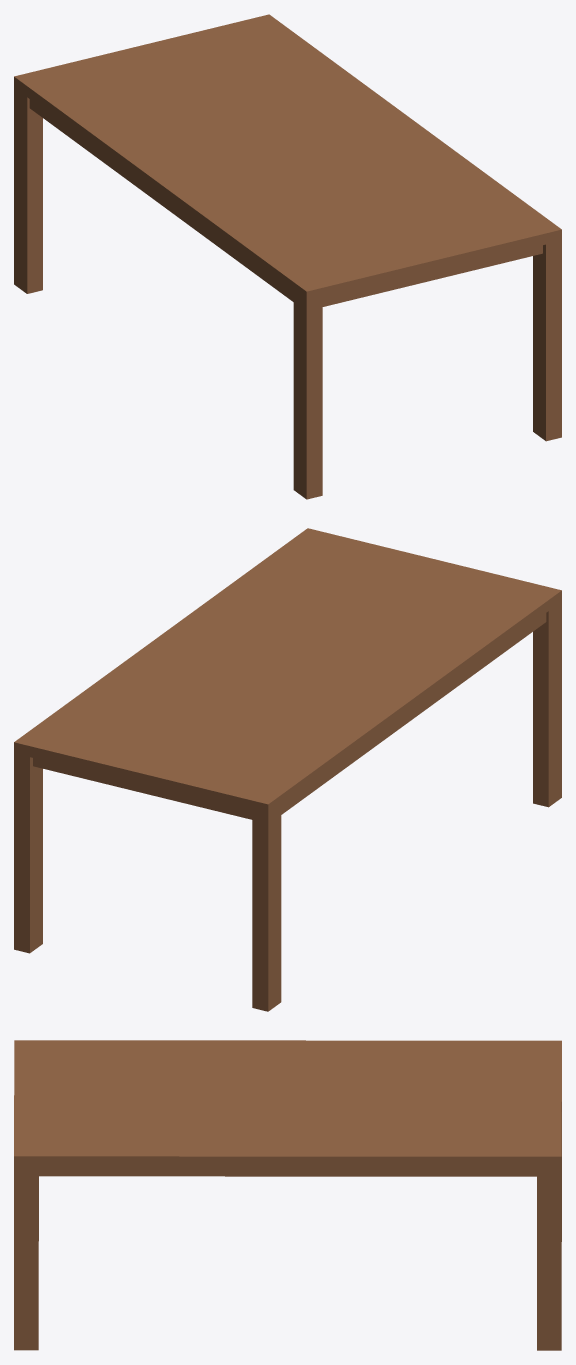
Rendered from table.dae.
The picture shows the model from 3 angles, top to bottom: view 1: azimuth 30°, elevation 25°; view 2: azimuth 150°, elevation 25°; view 3: azimuth 270°, elevation 25°; orthographic projection. The views are drawn at different scales.
Parts seen in each view (by area): view 1: SketchUp; view 2: SketchUp; view 3: SketchUp.
Boxes of the visible parts, x1=… form: SketchUp: x1=14, y1=14, x2=561, y2=499; SketchUp: x1=14, y1=528, x2=561, y2=1011; SketchUp: x1=14, y1=1040, x2=561, y2=1350.
Size of the model in its own units: 37.52 by 74.57 by 29.12.
Materials: 1 (1 with a texture image).
